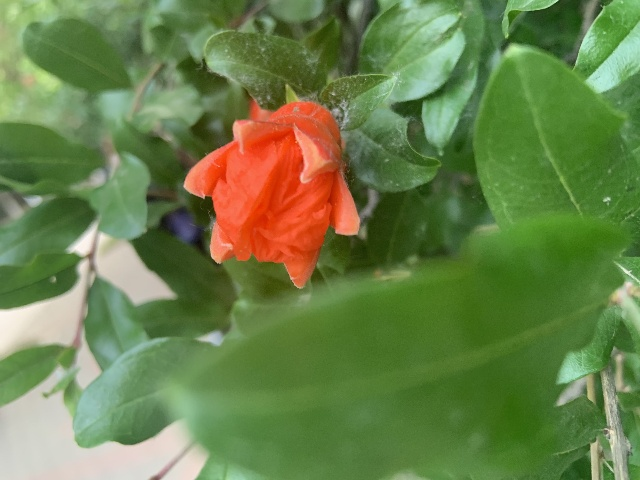flower: (184, 101, 361, 287)
